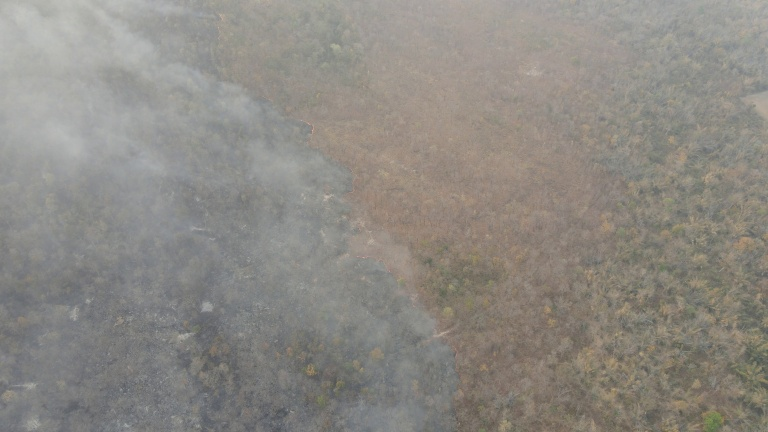smoke: (1, 1, 466, 430)
